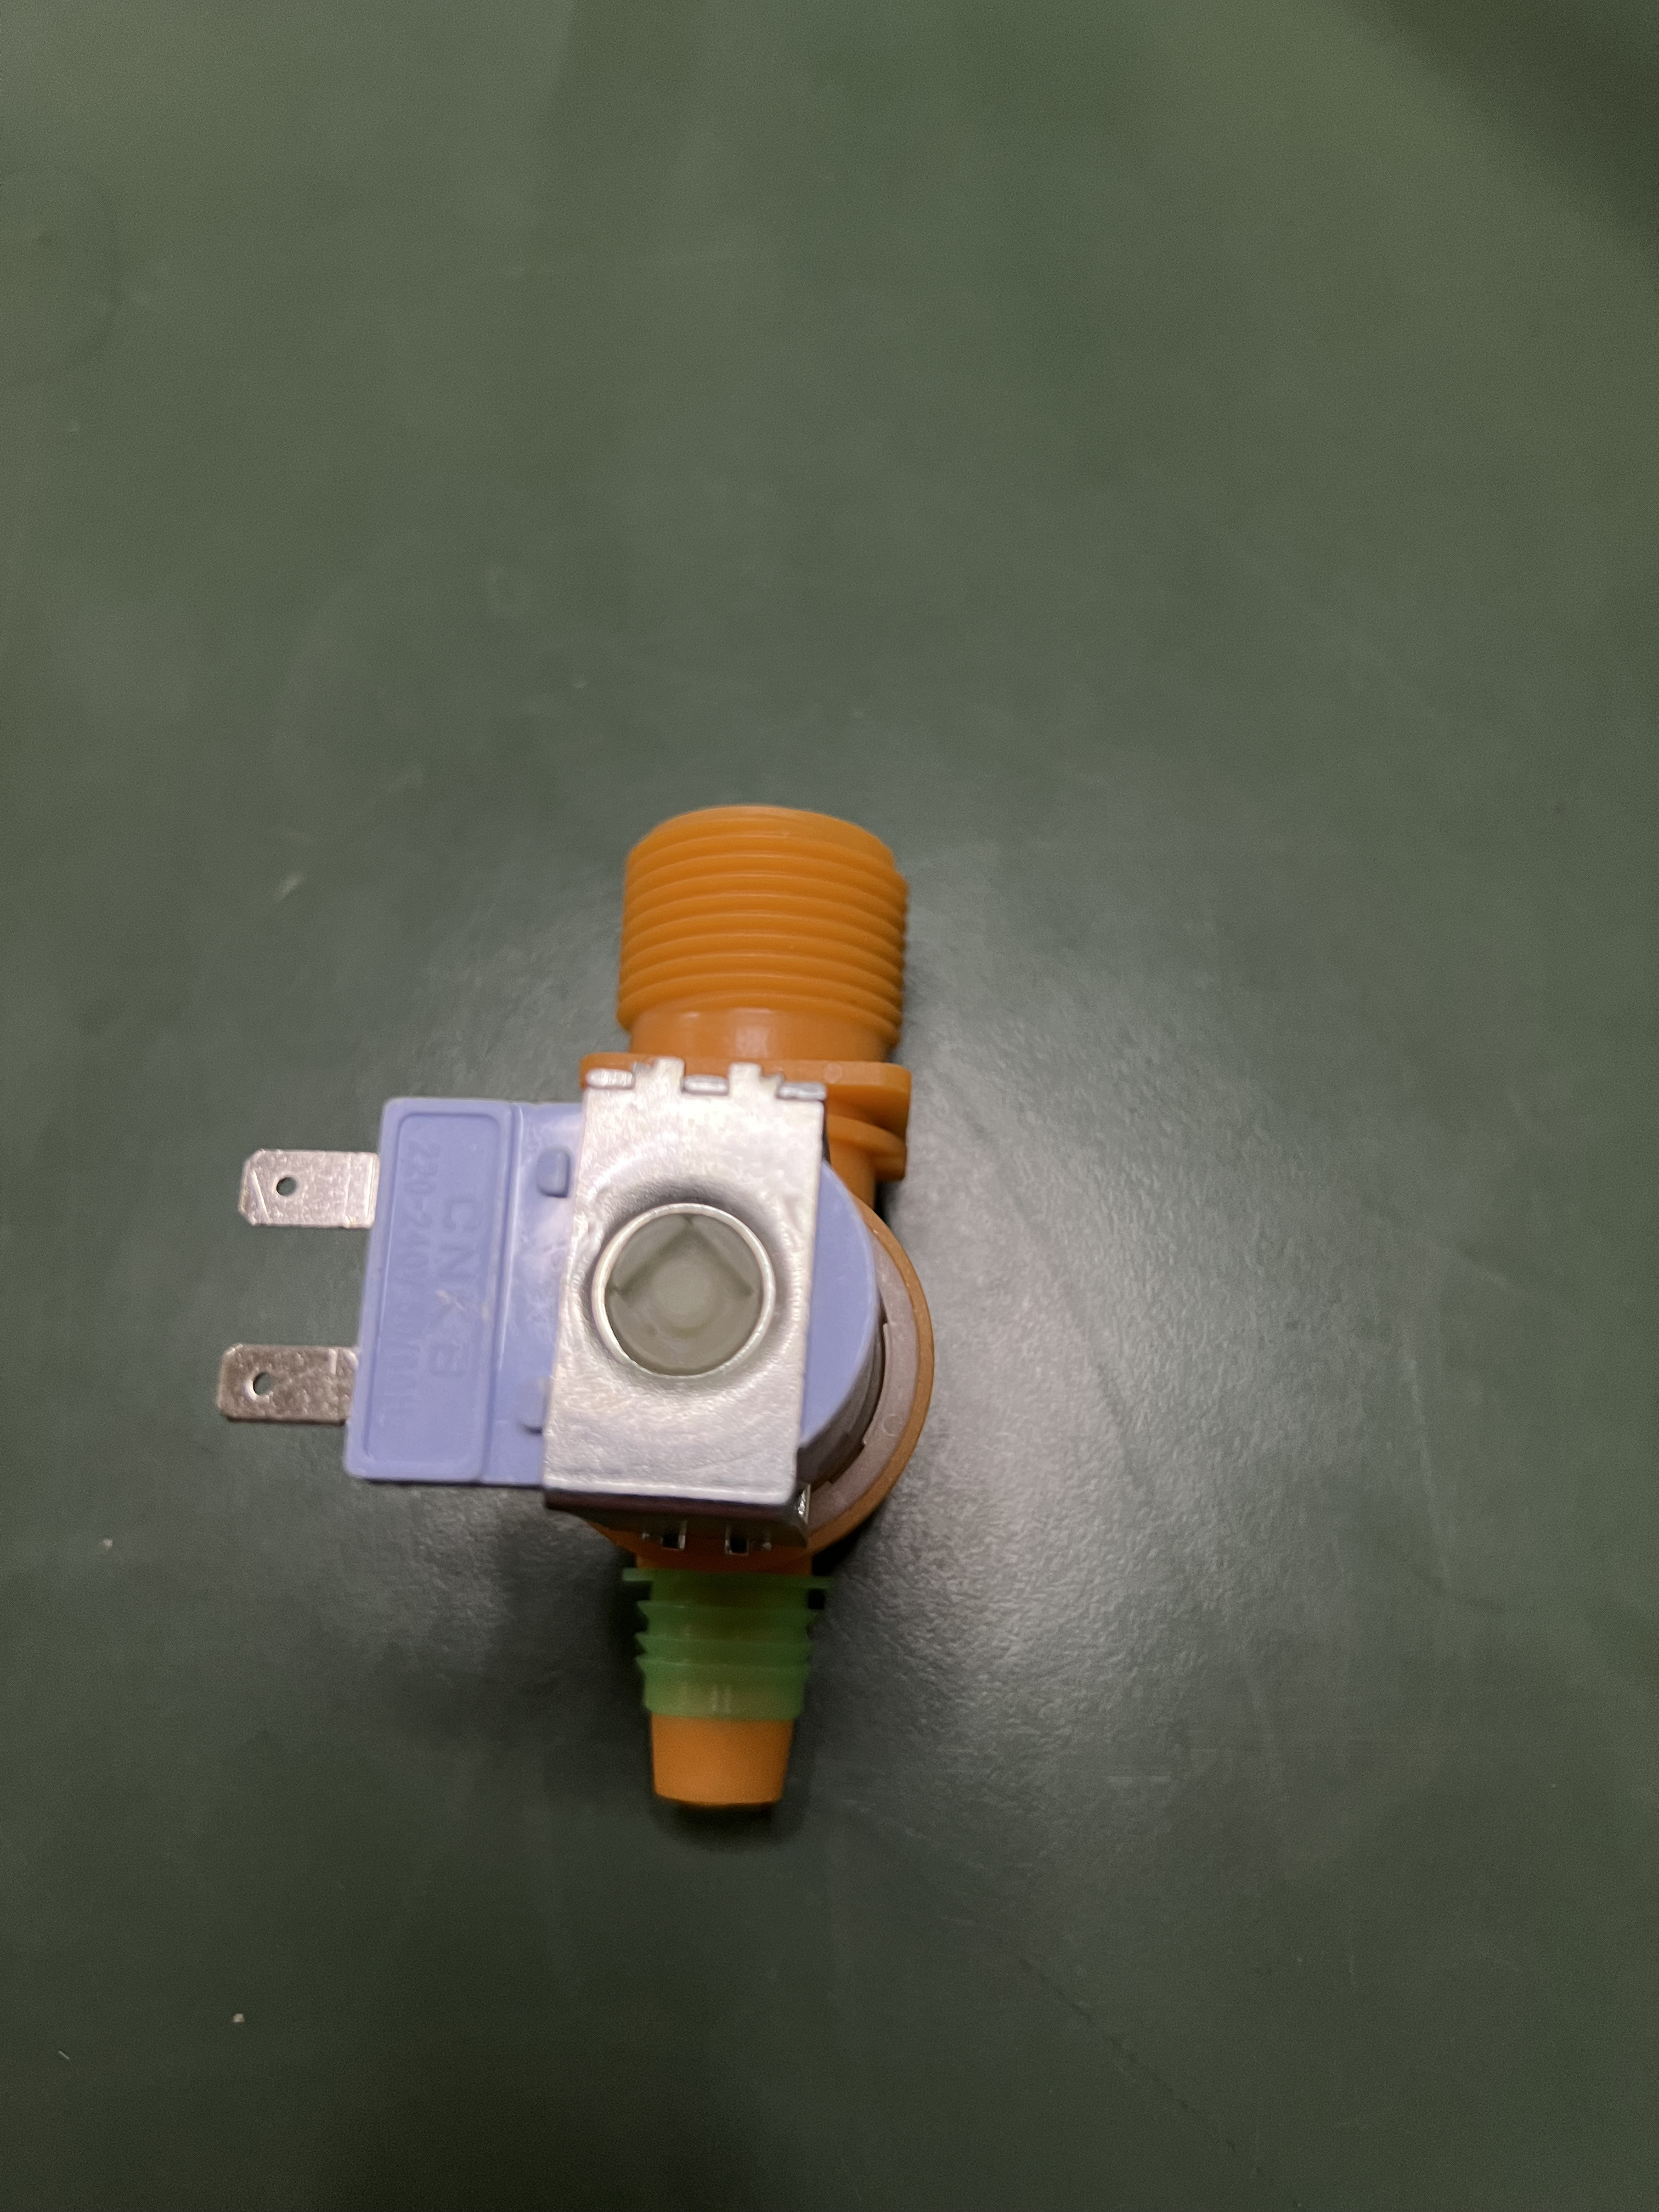ss_inlet_valves: (188, 752, 1061, 1883)
